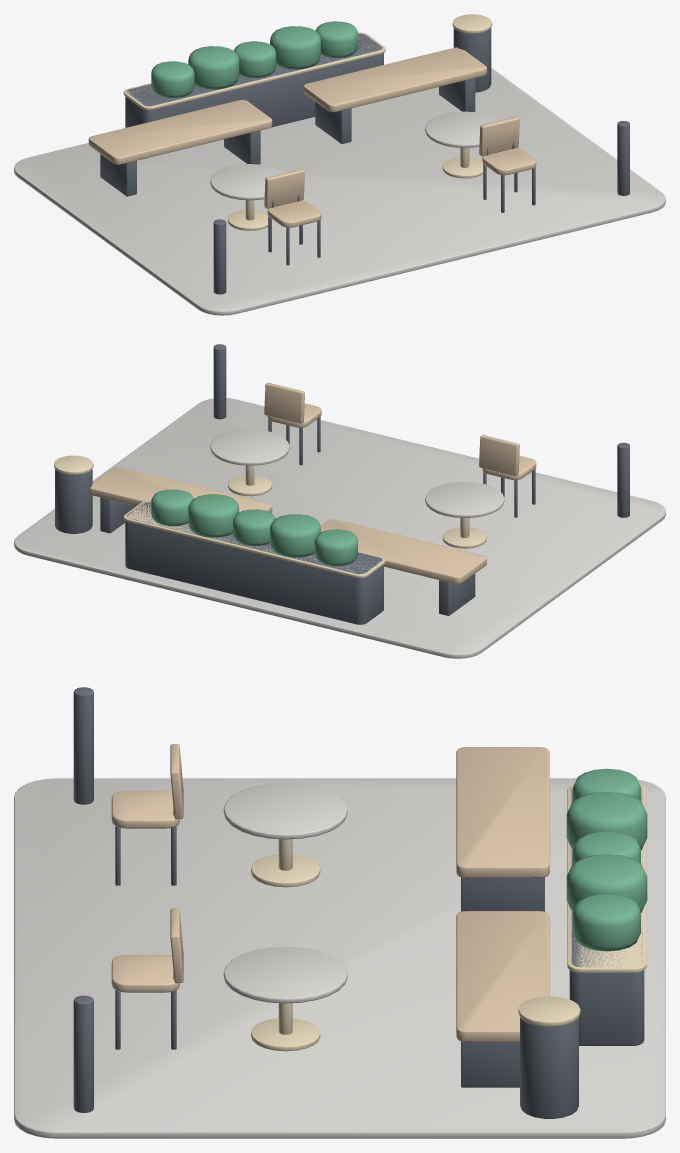
The model's file is rest_lounge_v27_3.glb.
3 views of the same model, one above another, from view 1: azimuth 30°, elevation 25°; view 2: azimuth 150°, elevation 25°; view 3: azimuth 270°, elevation 25° (orthographic). The views are drawn at different scales.
Visible parts, largest first — view 1: V273_RestLounge_Rest_Light_Stone, V273_RestLounge_Rest_Warm_Oak, V273_RestLounge_Rest_Graphite, V273_RestLounge_Rest_Foliage, V273_RestLounge_Rest_Champagne; view 2: V273_RestLounge_Rest_Light_Stone, V273_RestLounge_Rest_Graphite, V273_RestLounge_Rest_Warm_Oak, V273_RestLounge_Rest_Foliage, V273_RestLounge_Rest_Champagne; view 3: V273_RestLounge_Rest_Light_Stone, V273_RestLounge_Rest_Warm_Oak, V273_RestLounge_Rest_Graphite, V273_RestLounge_Rest_Foliage, V273_RestLounge_Rest_Champagne.
Part boxes in pixels (x1,y1,x2,y2): V273_RestLounge_Rest_Light_Stone: (14,68,665,315); V273_RestLounge_Rest_Warm_Oak: (88,47,536,227); V273_RestLounge_Rest_Graphite: (100,28,629,294); V273_RestLounge_Rest_Foliage: (151,21,357,97); V273_RestLounge_Rest_Champagne: (123,14,492,230); V273_RestLounge_Rest_Light_Stone: (14,398,665,658); V273_RestLounge_Rest_Graphite: (55,344,629,624); V273_RestLounge_Rest_Warm_Oak: (90,382,536,583); V273_RestLounge_Rest_Foliage: (151,489,357,566); V273_RestLounge_Rest_Champagne: (54,455,486,578); V273_RestLounge_Rest_Light_Stone: (14,778,665,1138); V273_RestLounge_Rest_Warm_Oak: (111,744,549,1041); V273_RestLounge_Rest_Graphite: (73,687,644,1118); V273_RestLounge_Rest_Foliage: (566,768,647,951); V273_RestLounge_Rest_Champagne: (251,784,646,1051).
Bounding box in the file's own units: 5.4 × 0.8947 × 4.2.
